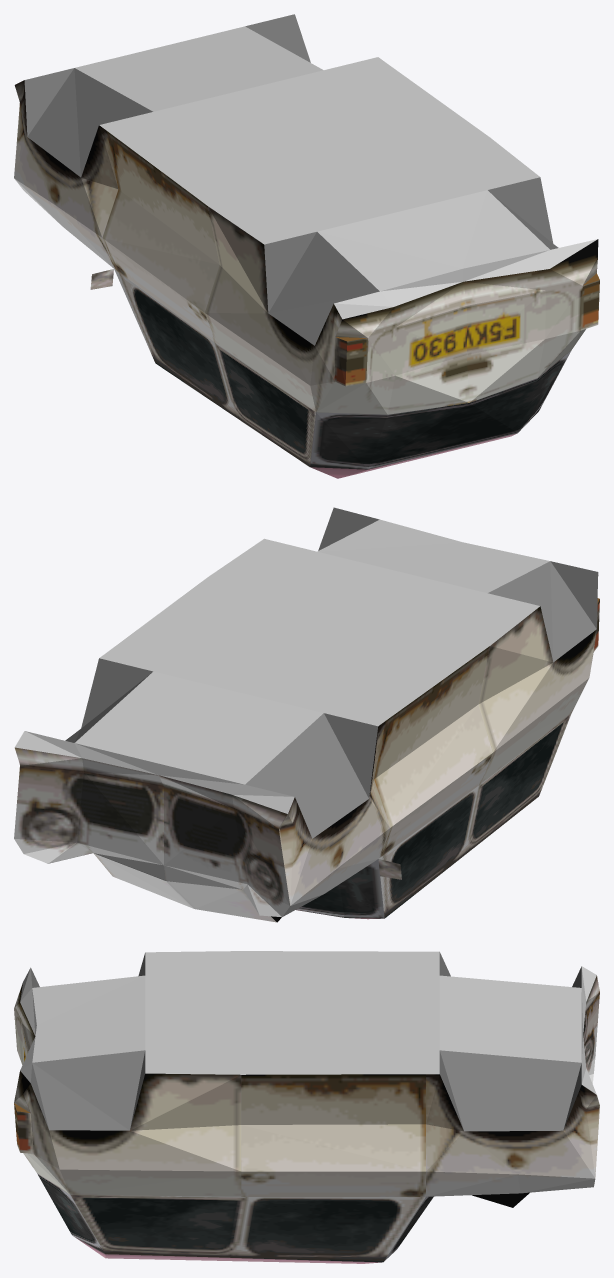
File: HAVANA_model12_damaged.obj
3 views of the same model, one above another, from view 1: azimuth 30°, elevation 25°; view 2: azimuth 150°, elevation 25°; view 3: azimuth 270°, elevation 25° (orthographic). The views are drawn at different scales.
Visible parts, largest first — view 1: HAVANA_model12_damaged; view 2: HAVANA_model12_damaged; view 3: HAVANA_model12_damaged.
Part boxes in pixels (box(x1,y1,x2,y2)): HAVANA_model12_damaged: box(14, 14, 599, 478); HAVANA_model12_damaged: box(14, 507, 599, 922); HAVANA_model12_damaged: box(14, 951, 599, 1263).
Bounding box in the file's own units: 212 × 154 × 384.
